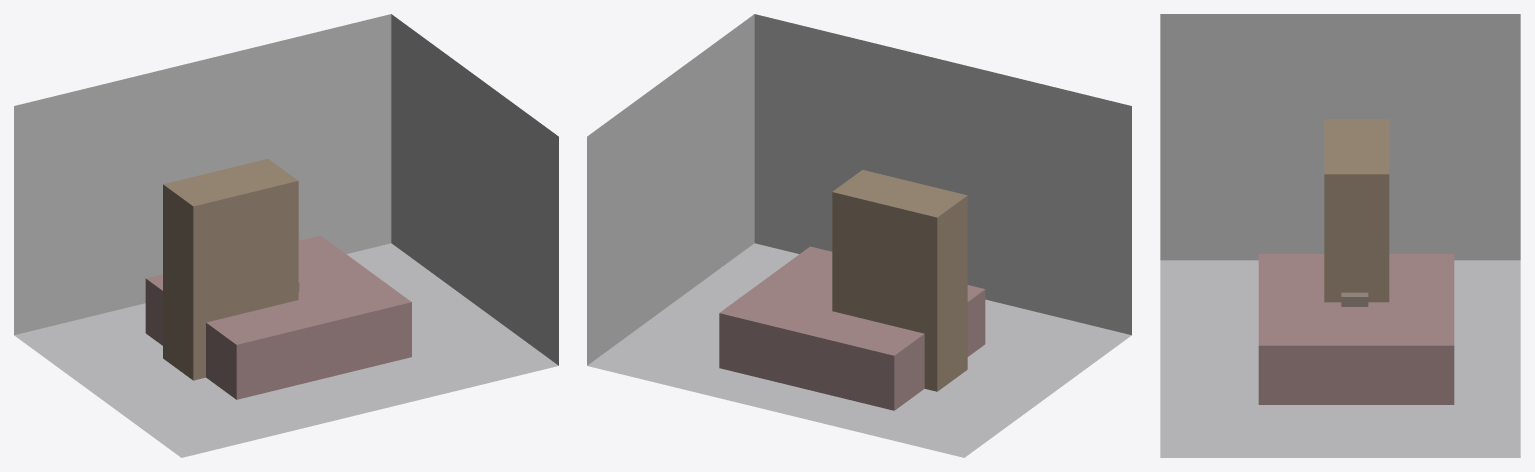
The model's file is current_layout.glb.
3 renders of one model, left to right at view 1: azimuth 30°, elevation 25°; view 2: azimuth 150°, elevation 25°; view 3: azimuth 270°, elevation 25°, orthographic. The views are drawn at different scales.
Visible parts, largest first — view 1: room, wardrobe, bed; view 2: room, wardrobe, bed; view 3: room, bed, wardrobe, suitcase.
Part boxes in pixels (x1,y1,x2,y2): room: (14,14,558,457); wardrobe: (163,158,298,380); bed: (145,235,411,399); room: (587,14,1131,457); wardrobe: (832,170,967,391); bed: (719,246,985,410); room: (1160,14,1520,457); bed: (1258,254,1454,404); wardrobe: (1324,119,1389,302); suitcase: (1341,292,1368,306).
Bounding box in the file's own units: 4.31 × 2.5 × 3.31.
